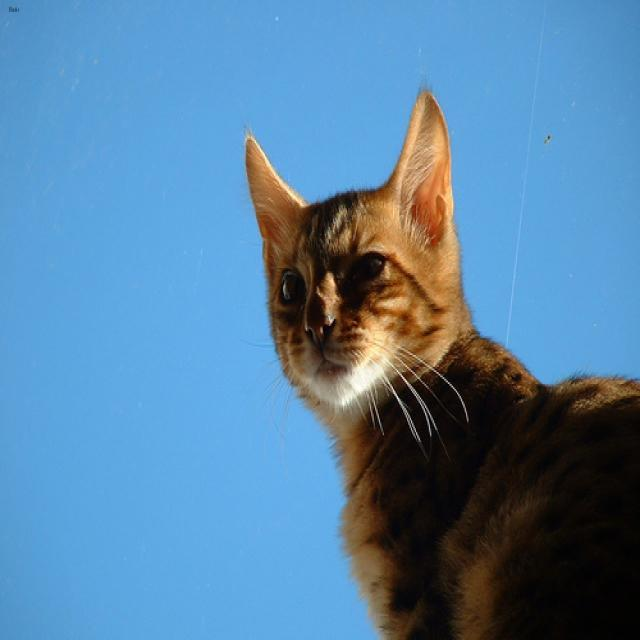Bengal: (234, 76, 473, 413)
